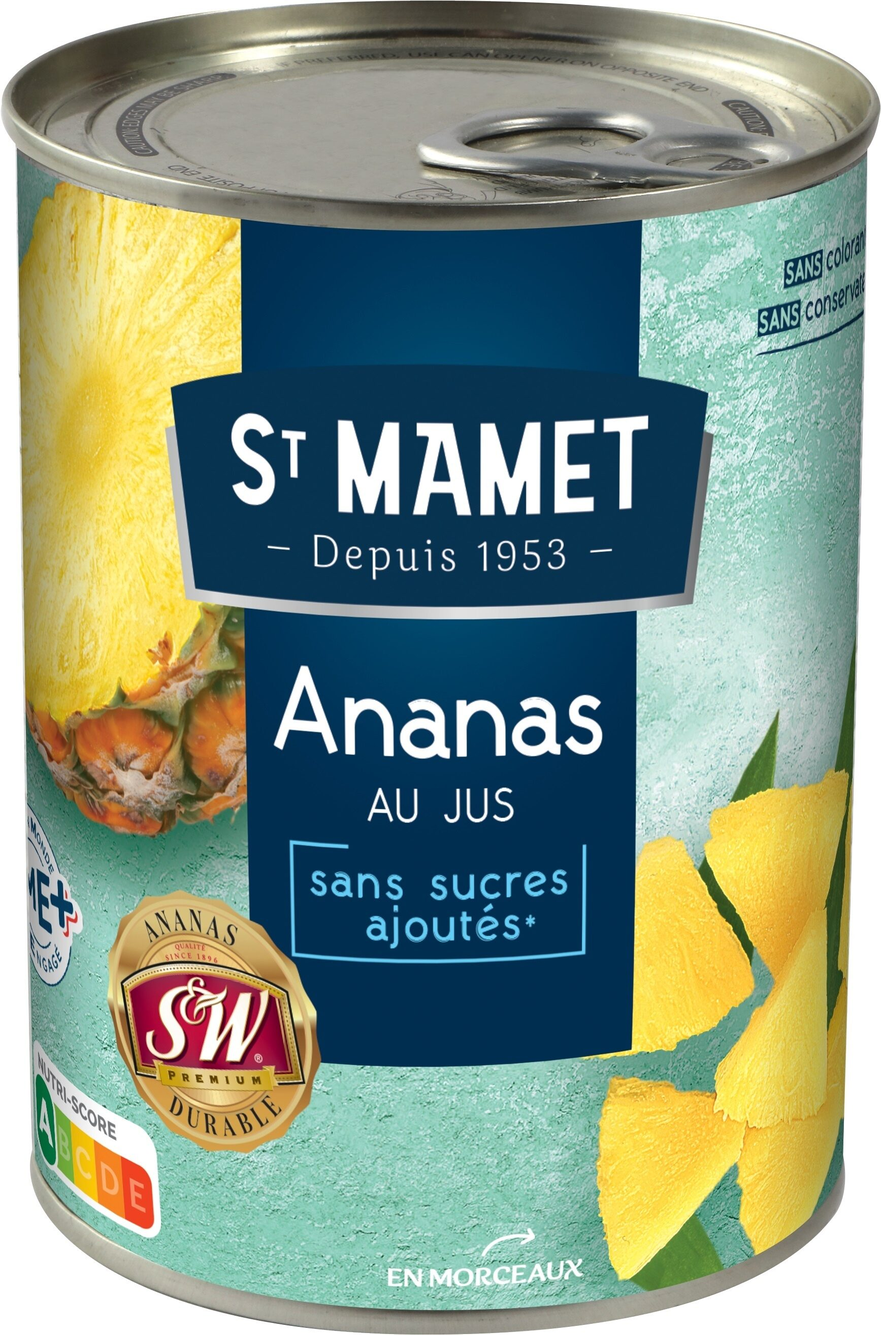Ananas au jus: (44, 67, 837, 1268)
